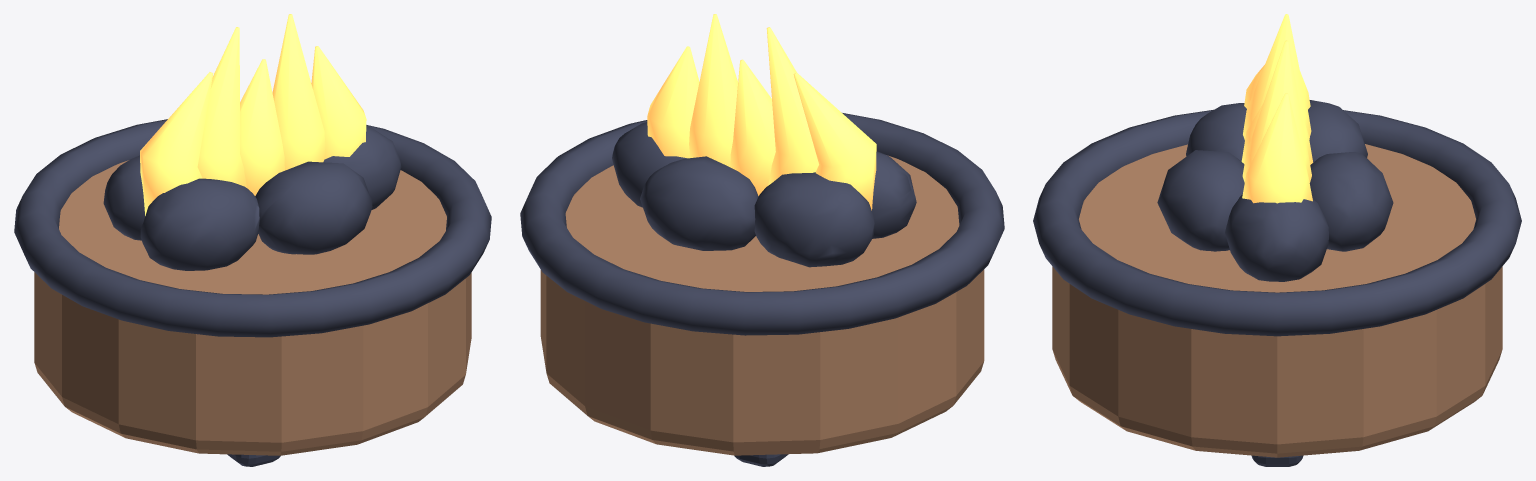
Rendered from inferno_decor_b.glb.
3 renders of one model, left to right at view 1: azimuth 30°, elevation 25°; view 2: azimuth 150°, elevation 25°; view 3: azimuth 270°, elevation 25°, orthographic. The views are drawn at different scales.
Parts seen in each view (by area): view 1: Batched V2 inferno copper, Batched V2 inferno dark, Batched V2 inferno glow; view 2: Batched V2 inferno copper, Batched V2 inferno dark, Batched V2 inferno glow; view 3: Batched V2 inferno copper, Batched V2 inferno dark, Batched V2 inferno glow.
Part boxes in pixels (left/top/right/bottom): Batched V2 inferno copper: left=34, top=160, right=471, bottom=455; Batched V2 inferno dark: left=14, top=119, right=491, bottom=466; Batched V2 inferno glow: left=140, top=14, right=366, bottom=215; Batched V2 inferno copper: left=540, top=155, right=984, bottom=455; Batched V2 inferno dark: left=520, top=113, right=1004, bottom=466; Batched V2 inferno glow: left=647, top=14, right=876, bottom=210; Batched V2 inferno copper: left=1052, top=144, right=1502, bottom=457; Batched V2 inferno dark: left=1033, top=100, right=1521, bottom=466; Batched V2 inferno glow: left=1241, top=14, right=1313, bottom=203.
Size of the model in its own units: 1.26 by 1.07 by 1.26.
